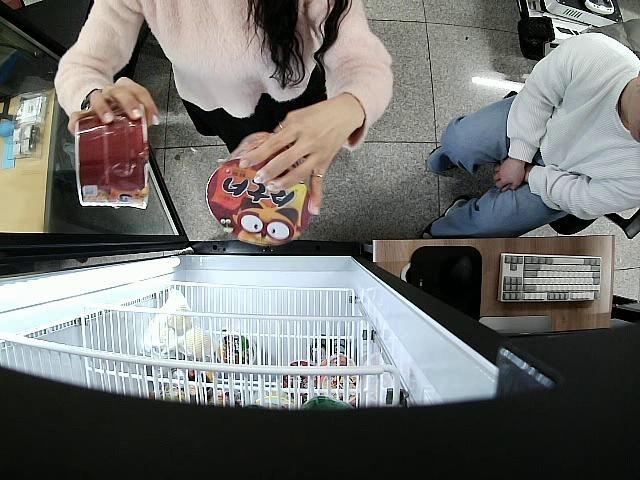05_nuguri_L: (205, 130, 312, 247), (72, 99, 149, 213)
